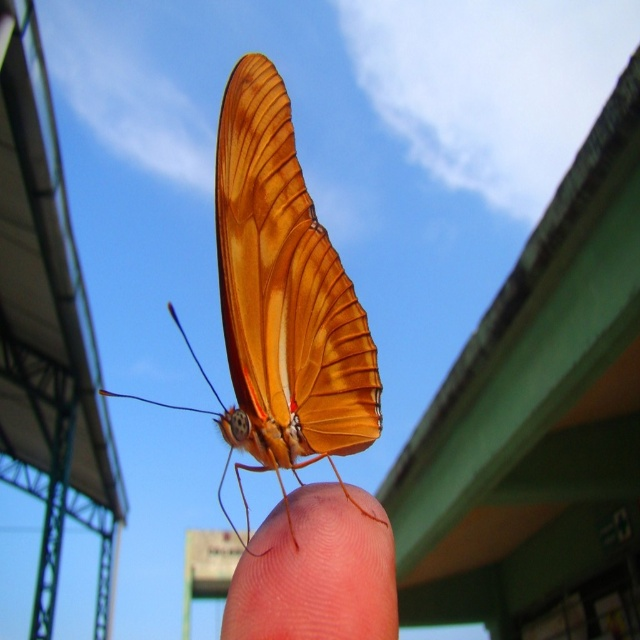Butterfly: (98, 52, 391, 559)
